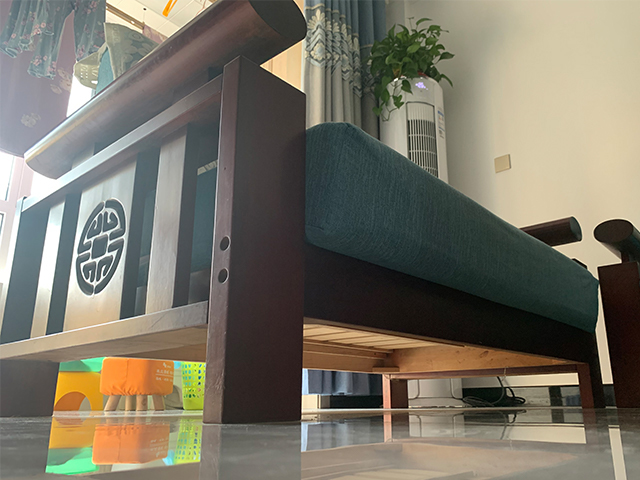sofa: (1, 3, 609, 425)
stool: (98, 356, 175, 412), (51, 371, 105, 412)
trashcan: (180, 360, 207, 412)
wire: (462, 376, 527, 408)
